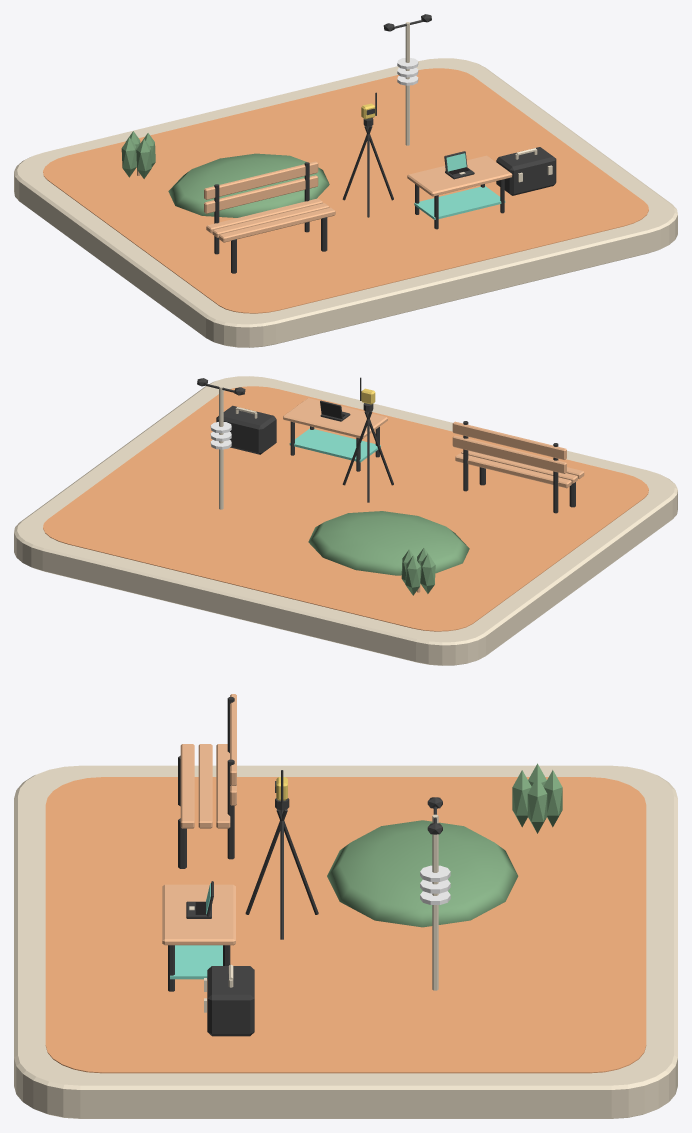
3 views of the same model, one above another, from view 1: azimuth 30°, elevation 25°; view 2: azimuth 150°, elevation 25°; view 3: azimuth 270°, elevation 25° (orthographic). The views are drawn at different scales.
Visible parts, largest first — view 1: COM-02 Floor Surface, COM-01 Rounded Base Direct, Low terrain, Worktop, Case, Lower shelf, Back slat, Back slat.001, Seat slat, Seat slat.001, Seat slat.002, Mast; view 2: COM-02 Floor Surface, COM-01 Rounded Base Direct, Low terrain, Worktop, Case, Lower shelf, Back slat, Back slat.001, Seat slat.002, Seat slat.001, Mast, Leaf.001 (+1 smaller); view 3: COM-02 Floor Surface, COM-01 Rounded Base Direct, Low terrain, Worktop, Case, Lower shelf, Seat slat, Seat slat.001, Seat slat.002, Mast, Leaf, Leaf.003 (+1 smaller).
Part boxes in pixels (bbox=[...]): COM-02 Floor Surface: bbox=[43, 68, 648, 313]; COM-01 Rounded Base Direct: bbox=[14, 58, 677, 347]; Low terrain: bbox=[168, 153, 329, 217]; Worktop: bbox=[407, 155, 512, 196]; Case: bbox=[496, 147, 556, 195]; Lower shelf: bbox=[414, 186, 505, 219]; Back slat: bbox=[204, 175, 318, 213]; Back slat.001: bbox=[204, 161, 318, 199]; Seat slat: bbox=[219, 207, 335, 242]; Seat slat.001: bbox=[212, 203, 329, 237]; Seat slat.002: bbox=[206, 198, 322, 233]; Mast: bbox=[405, 22, 409, 145]; COM-02 Floor Surface: bbox=[43, 386, 648, 631]; COM-01 Rounded Base Direct: bbox=[14, 376, 677, 665]; Low terrain: bbox=[308, 511, 469, 575]; Worktop: bbox=[283, 398, 387, 438]; Case: bbox=[216, 405, 276, 454]; Lower shelf: bbox=[289, 428, 380, 462]; Back slat: bbox=[452, 435, 566, 473]; Back slat.001: bbox=[452, 421, 566, 459]; Seat slat.002: bbox=[455, 453, 571, 488]; Seat slat.001: bbox=[461, 450, 577, 483]; Mast: bbox=[219, 386, 223, 509]; Leaf.001: bbox=[405, 555, 420, 595]; COM-02 Floor Surface: bbox=[45, 777, 646, 1073]; COM-01 Rounded Base Direct: bbox=[14, 765, 677, 1118]; Low terrain: bbox=[327, 820, 518, 927]; Worktop: bbox=[162, 884, 235, 945]; Case: bbox=[207, 966, 254, 1036]; Lower shelf: bbox=[170, 945, 222, 979]; Seat slat: bbox=[180, 744, 194, 828]; Seat slat.001: bbox=[198, 744, 212, 828]; Seat slat.002: bbox=[216, 744, 230, 828]; Mast: bbox=[432, 814, 438, 990]; Leaf: bbox=[527, 776, 547, 833]; Leaf.003: bbox=[512, 770, 531, 827].
Size of the model in its own units: 6 by 1.85 by 5.2.
1 material, 1 textured.
